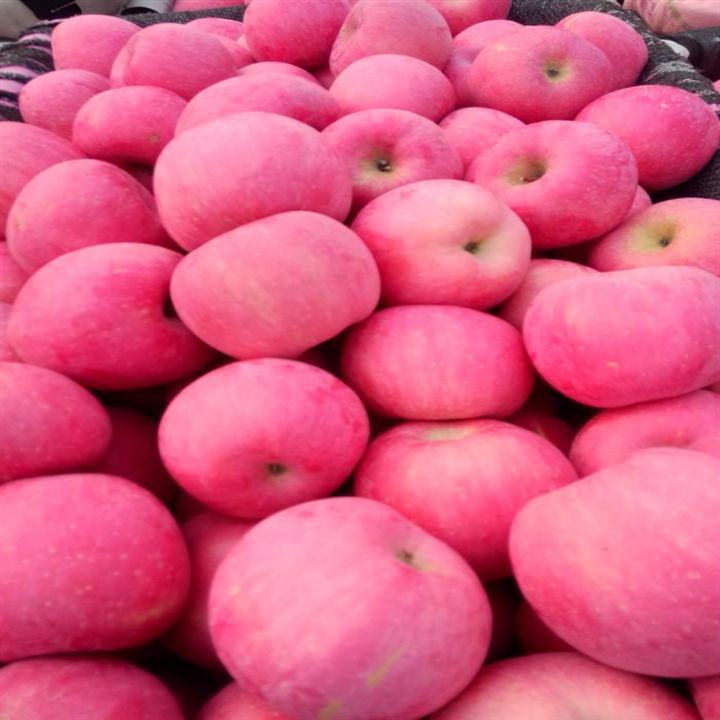apple: (206, 498, 491, 710), (504, 451, 719, 681), (156, 356, 370, 524), (353, 418, 576, 578), (3, 474, 188, 660), (170, 209, 384, 358), (7, 241, 217, 389), (519, 266, 720, 408), (155, 115, 353, 243), (351, 179, 529, 315), (466, 119, 641, 249), (339, 303, 525, 414), (467, 18, 611, 117), (577, 197, 719, 280)
